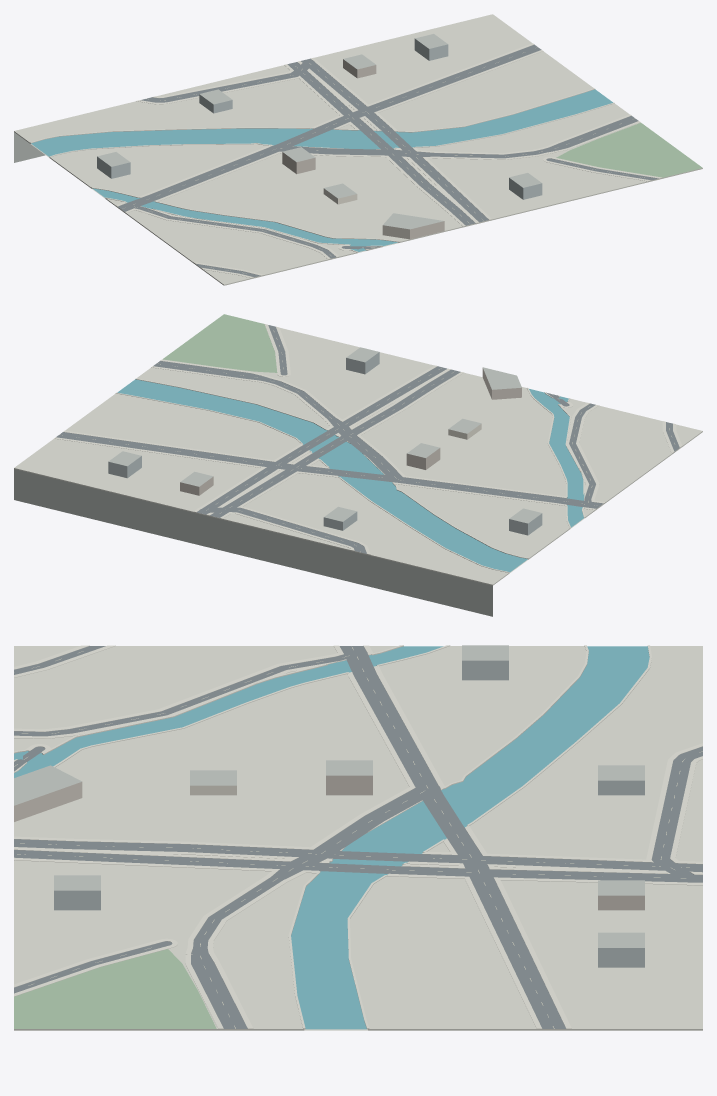
The picture shows the model from 3 angles, top to bottom: view 1: azimuth 30°, elevation 25°; view 2: azimuth 150°, elevation 25°; view 3: azimuth 270°, elevation 25°; orthographic projection. The views are drawn at different scales.
Visible parts, largest first — view 1: city; view 2: city; view 3: city.
Boxes of the visible parts, x1,y1,x2,y2 form: city: [14, 14, 702, 285]; city: [14, 314, 702, 616]; city: [14, 645, 702, 1030].
Size of the model in its own units: 500 by 44 by 380.
